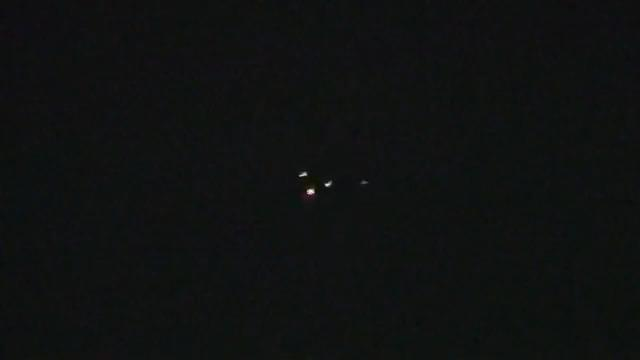Plane: (290, 157, 378, 204)
